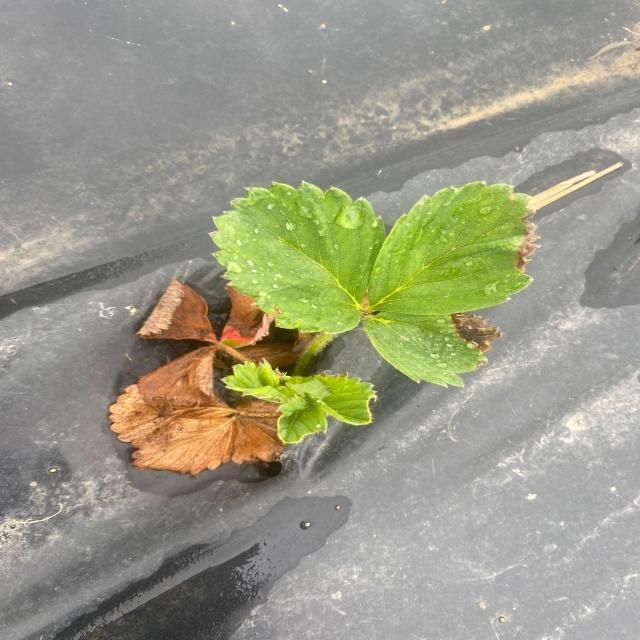flower: (207, 171, 542, 393)
